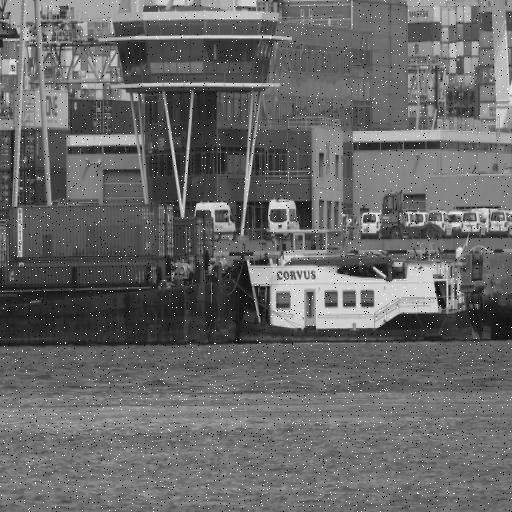tugboat: (194, 225, 500, 355)
